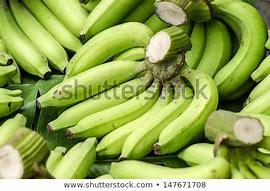banana: (42, 28, 216, 150), (0, 0, 94, 63)
